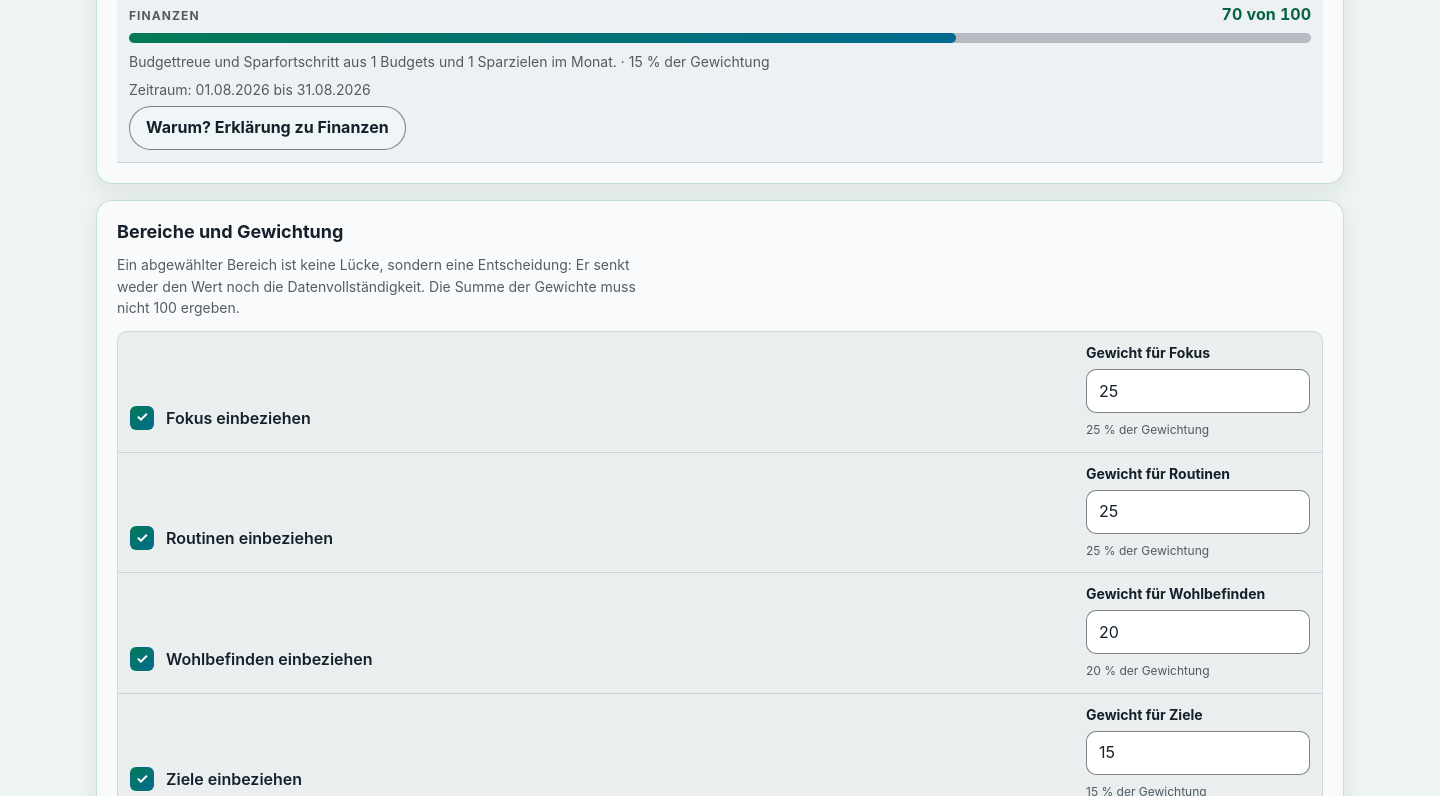
Scenario: InsightsPage – Bereiche und Gewichtung › saves a valid configuration and recalculates with it
(page scrolled)
Step 1. Replace the text in the number field labelled "Gewicht für Fokus" with "50" → (1198, 391), box [1086,369,1310,413]
(page scrolled)
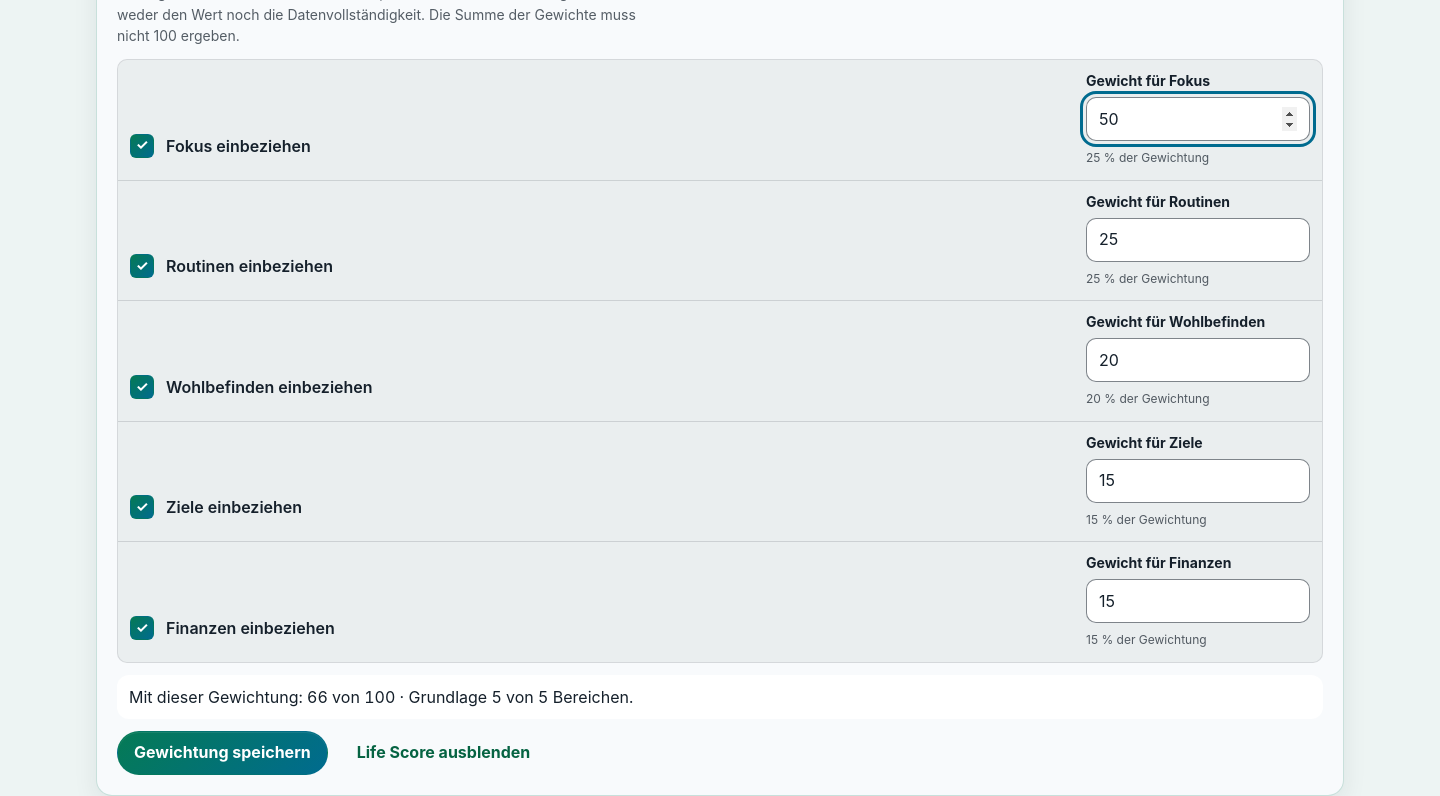
Step 2. Click the button "Gewichtung speichern" → (222, 753), box [117,731,328,775]
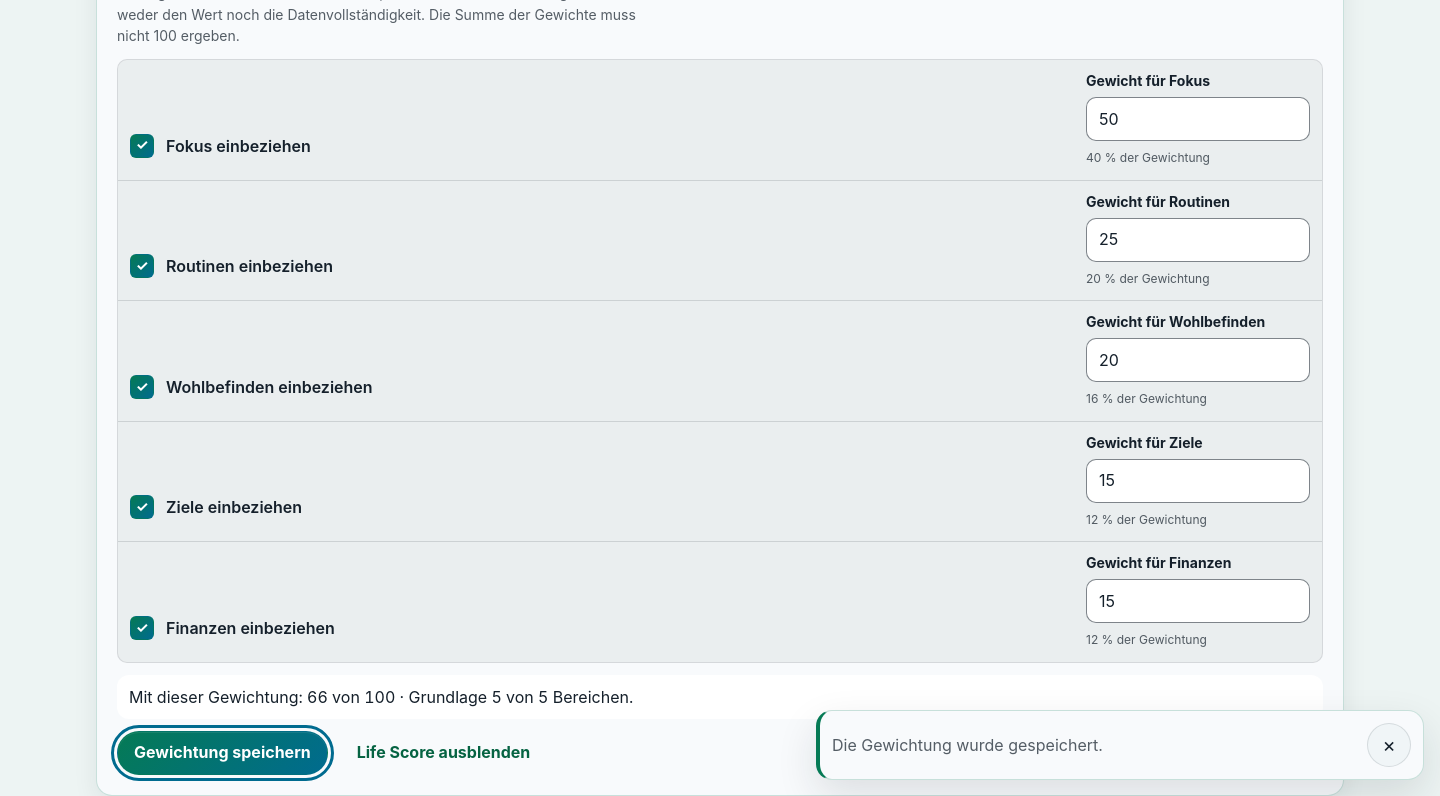
Now the text "Die Gewichtung wurde gespeichert." is shown, box [832,735,1103,755]
Now the text "40 % der Gewichtung" is shown, box [1086,150,1210,165]
